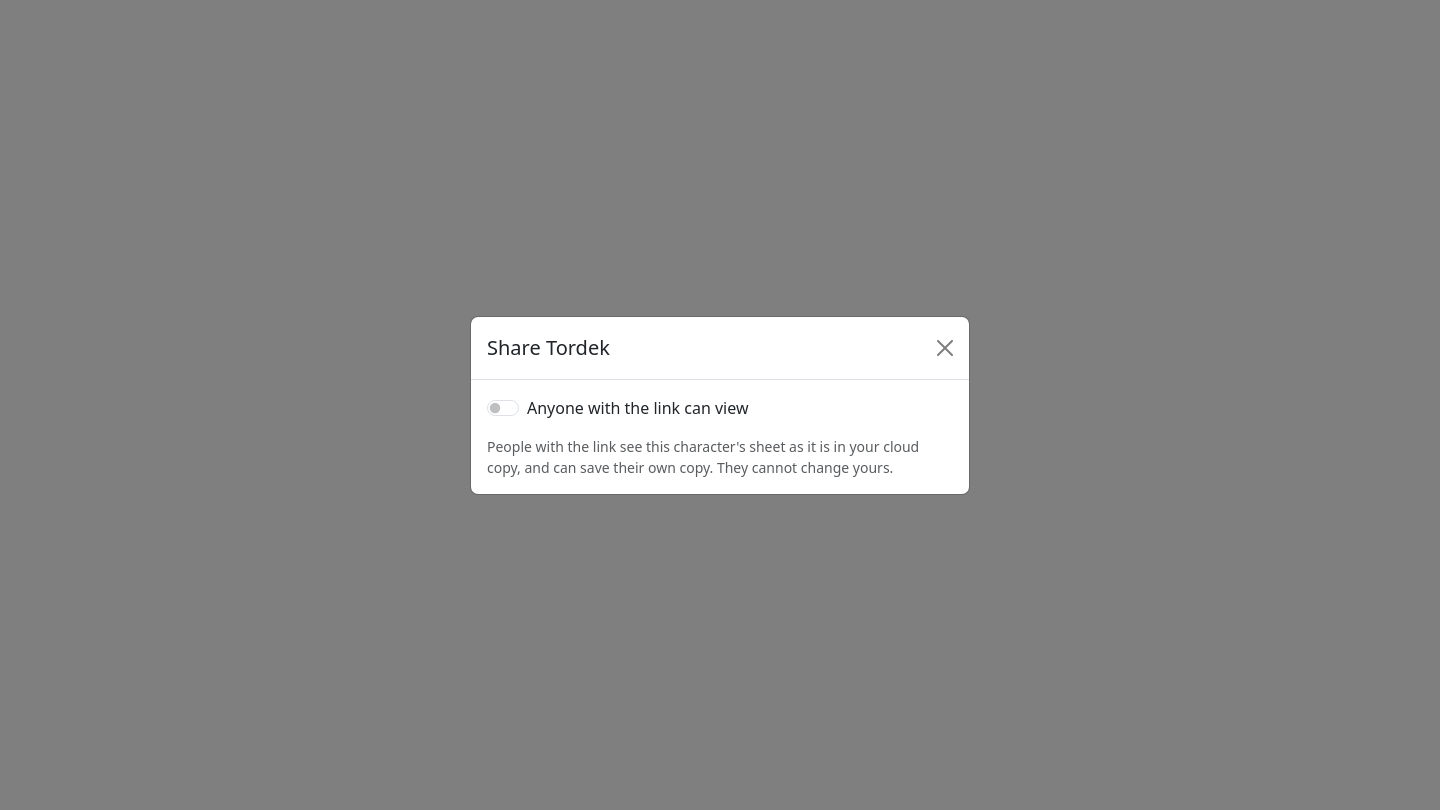
Scenario: the Share window › makes a link when switched on, and shows it with a Copy link button
Click the switch labelled "Anyone with the link can view". click: (503, 408)
box: [487,400,519,416]
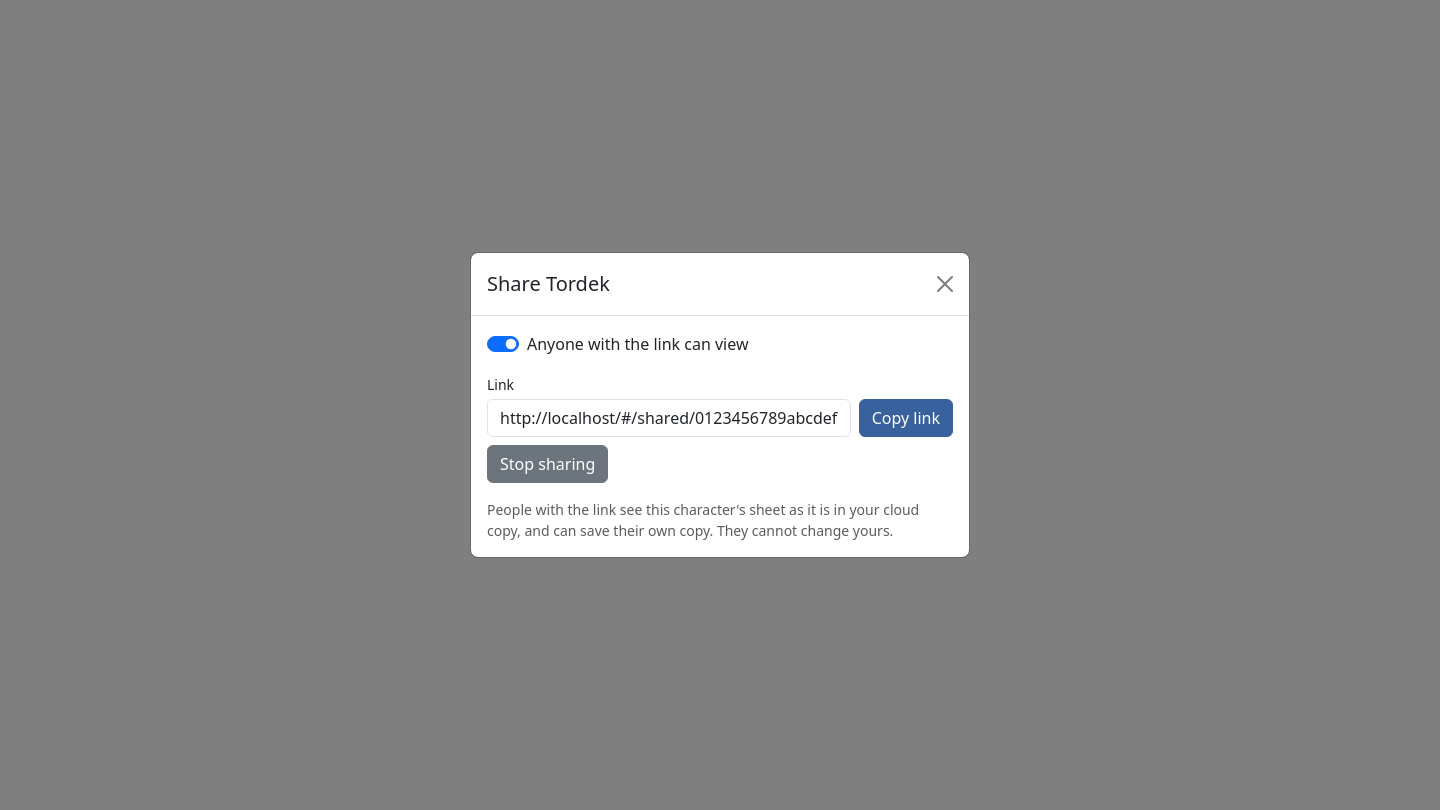
expect the switch is checked: met, box [487,336,519,352]
